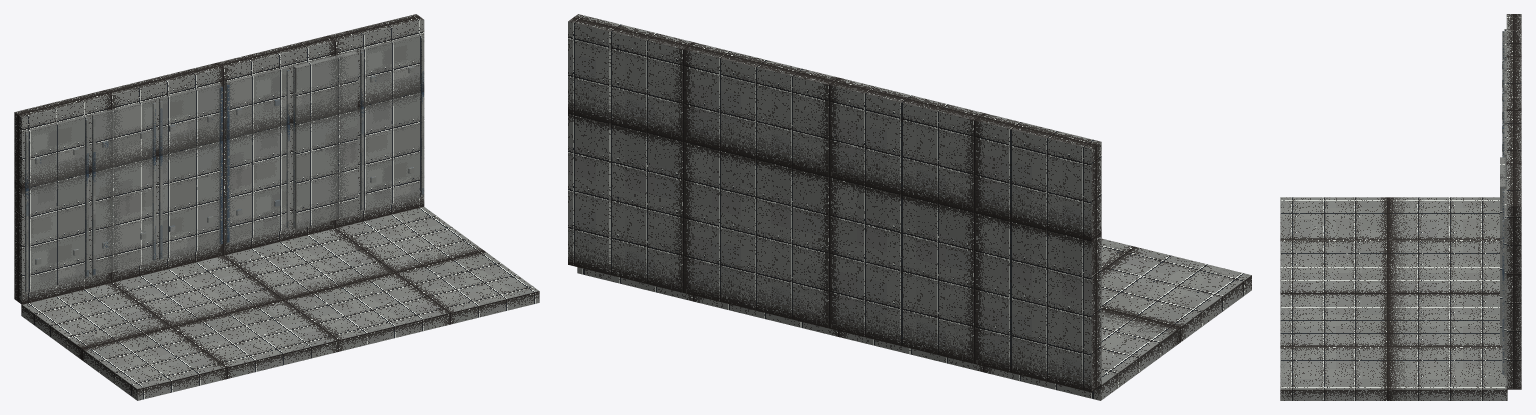
The model's file is secret_tier_medium.glb.
3 views of the same model, side by side, from view 1: azimuth 30°, elevation 25°; view 2: azimuth 150°, elevation 25°; view 3: azimuth 270°, elevation 25° (orthographic). The views are drawn at different scales.
Visible parts, largest first — view 1: secret_tier_medium; view 2: secret_tier_medium; view 3: secret_tier_medium.
Part boxes in pixels (x1,y1,x2,y2): secret_tier_medium: [14, 14, 539, 400]; secret_tier_medium: [568, 14, 1251, 400]; secret_tier_medium: [1280, 14, 1521, 400].
Bounding box in the file's own units: 7.2 × 3.4 × 3.82.
3 materials, 3 textured.
